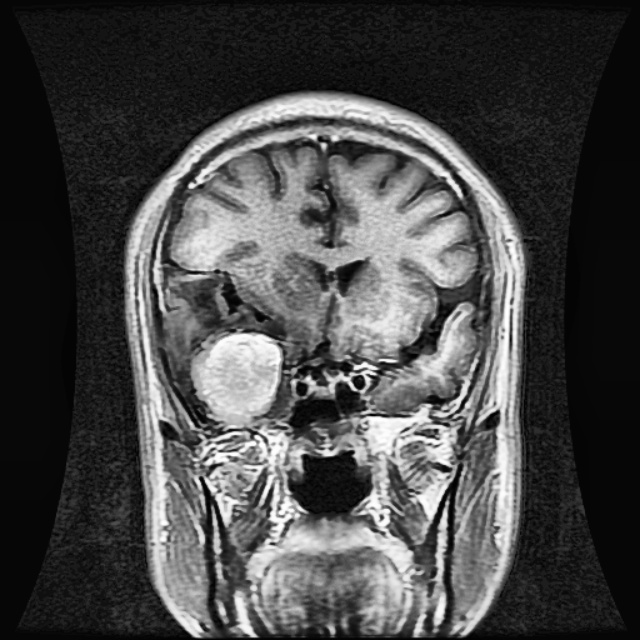Glioma: (193, 333, 280, 423)
